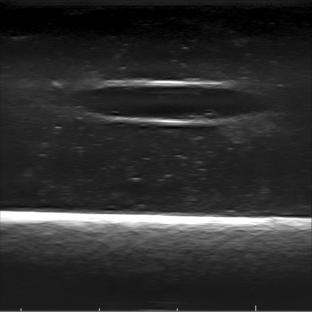vessel: (71, 79, 270, 126)
